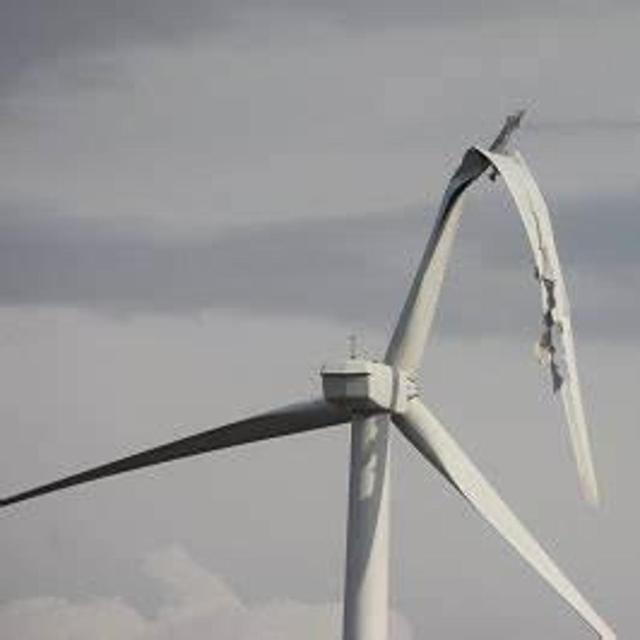crack: (404, 95, 615, 508)
